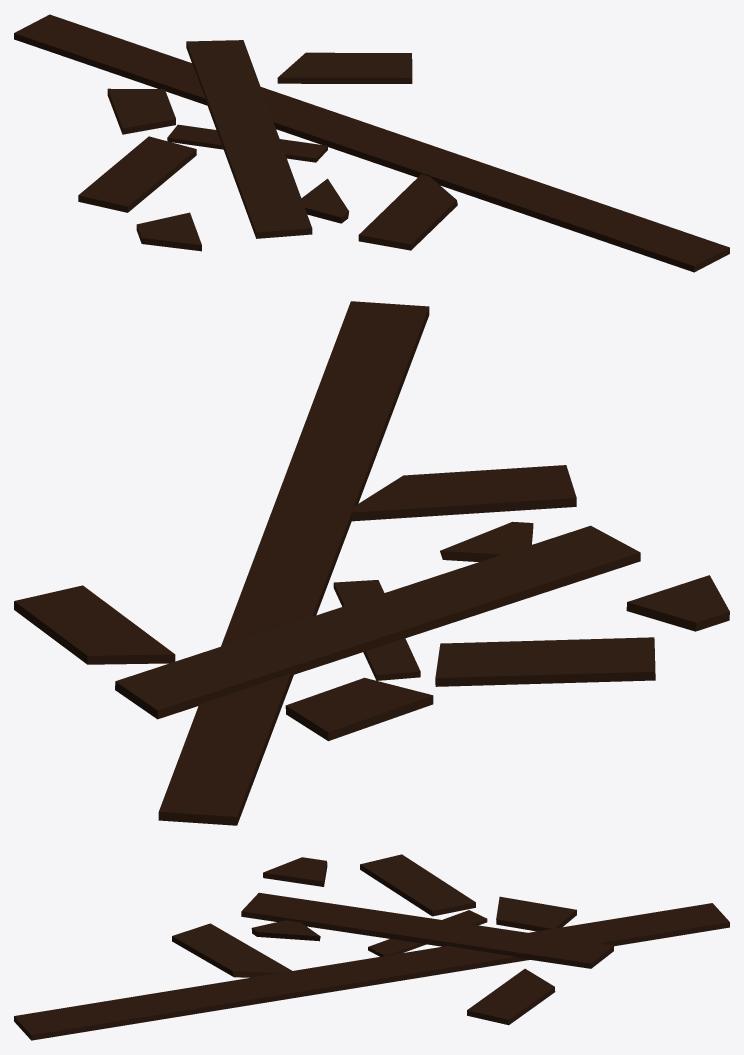
File: P_DebrisPlancheGrand.FBX
3 renders of one model, top to bottom at view 1: azimuth 30°, elevation 25°; view 2: azimuth 150°, elevation 25°; view 3: azimuth 270°, elevation 25°, orthographic. The views are drawn at different scales.
Visible parts, largest first — view 1: Box003; view 2: Box003; view 3: Box003.
Part boxes in pixels (x1,y1,x2,y2): Box003: (14, 14, 729, 272); Box003: (14, 301, 729, 825); Box003: (14, 854, 729, 1040).
Size of the model in its own units: 167 by 278 by 5.52.
